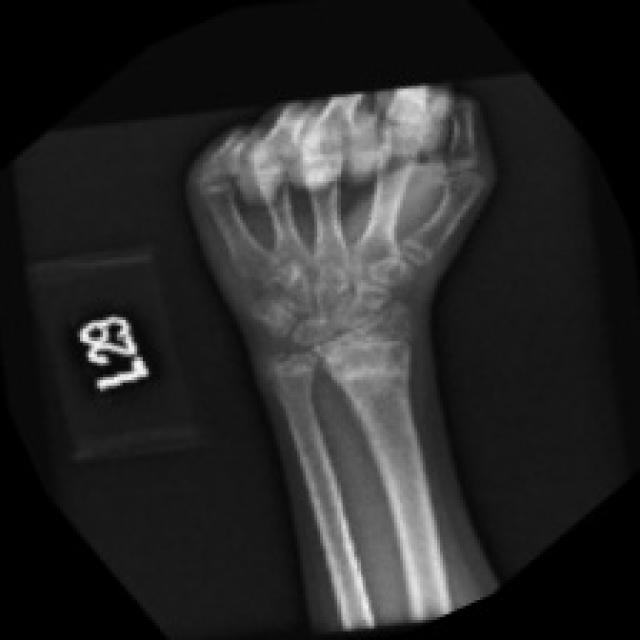fracture: (223, 318, 345, 406)
